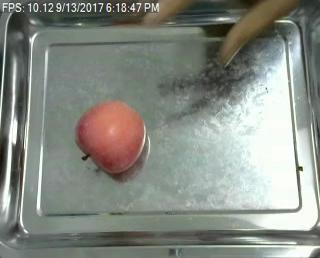apple: (75, 101, 147, 176)
